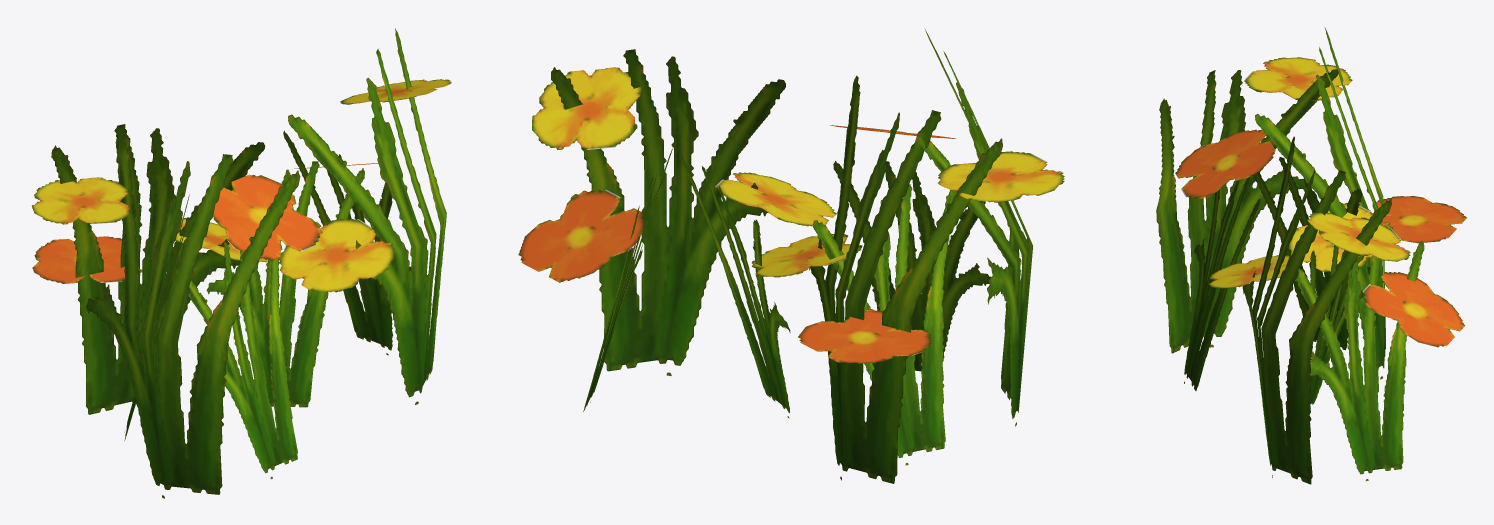
The model's file is sm_flower_01.FBX.
3 views of the same model, side by side, from view 1: azimuth 30°, elevation 25°; view 2: azimuth 150°, elevation 25°; view 3: azimuth 270°, elevation 25° (orthographic). The views are drawn at different scales.
Visible parts, largest first — view 1: sm_flower_11; view 2: sm_flower_11; view 3: sm_flower_11.
Boxes of the visible parts, box(x1,y1,x2,y2) form: sm_flower_11: box(32, 28, 451, 498); sm_flower_11: box(518, 29, 1064, 483); sm_flower_11: box(1156, 27, 1466, 484).
Size of the model in its own units: 152 by 103 by 98.4.
